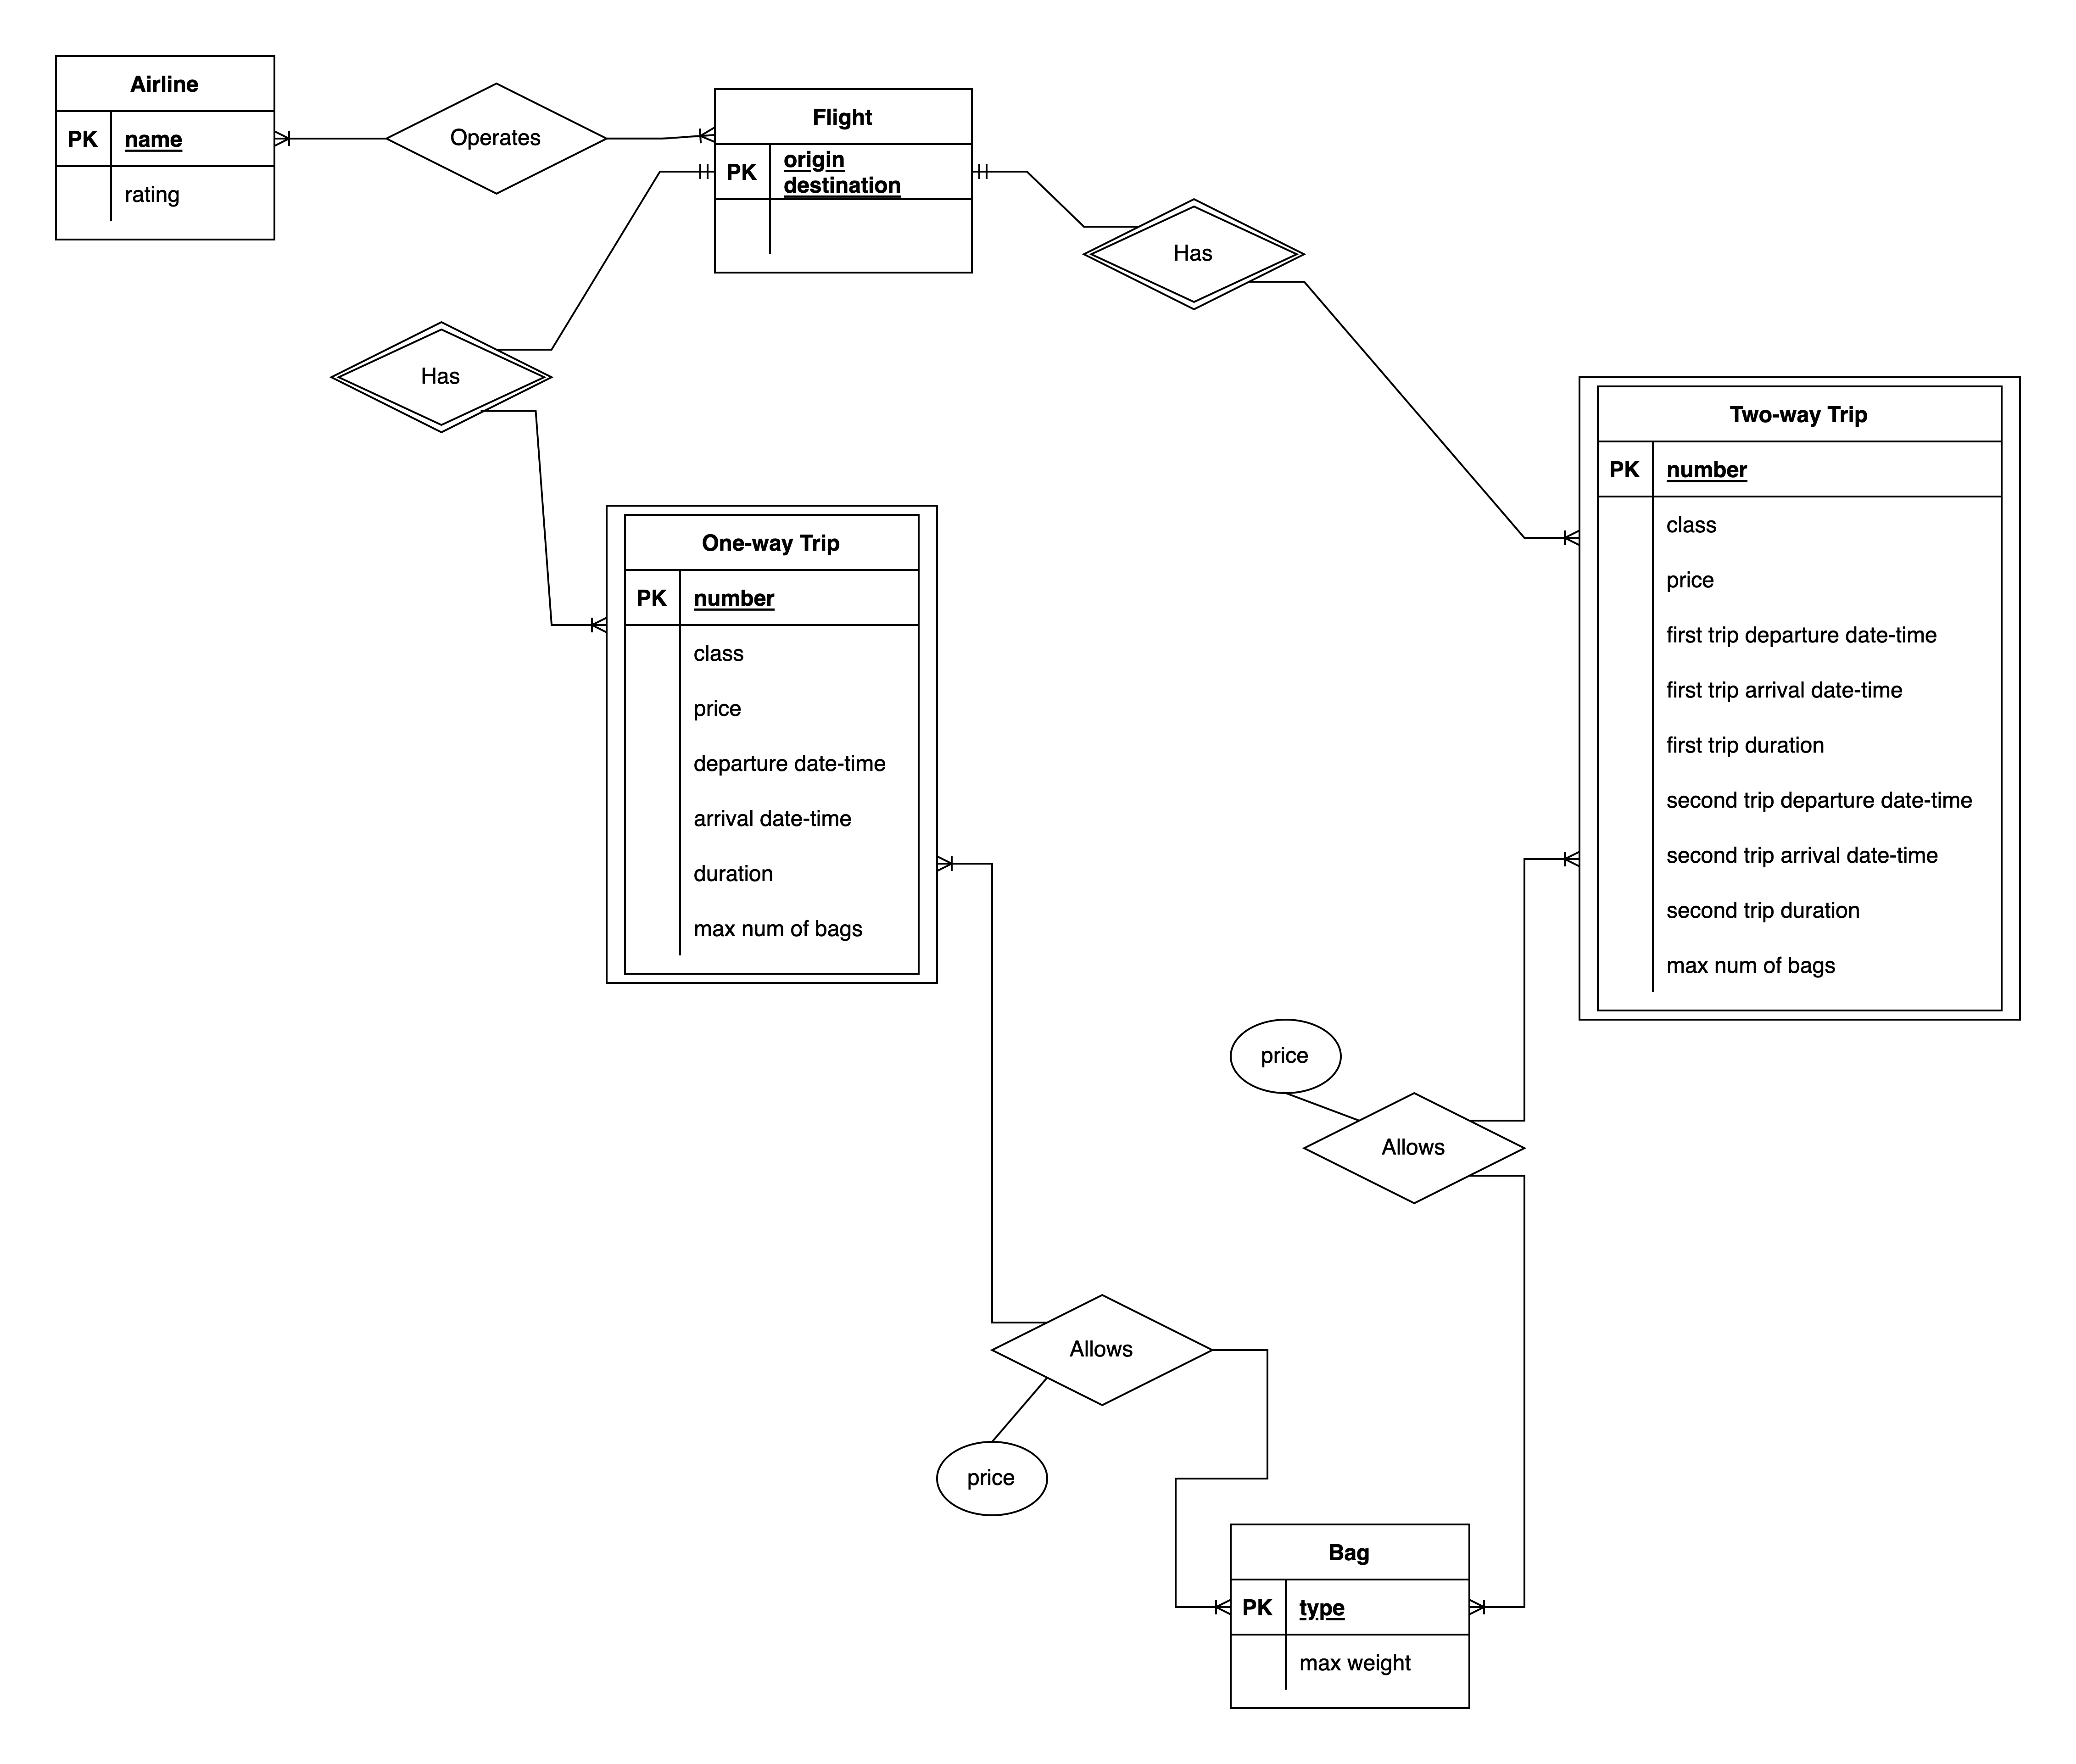entity: (714, 89, 975, 276), (1231, 1519, 1469, 1706), (54, 52, 273, 238)
ident_rel: (329, 318, 555, 439), (1084, 199, 1304, 310)
many: (1523, 511, 1575, 563), (933, 838, 985, 891), (1521, 836, 1577, 878), (546, 604, 604, 644), (1469, 1584, 1519, 1629), (1178, 1587, 1232, 1629), (275, 114, 320, 152), (683, 117, 721, 150)
one: (676, 156, 719, 198), (971, 152, 1017, 191)
rel: (383, 77, 607, 196), (1302, 1094, 1525, 1204), (992, 1297, 1210, 1405)
rel_attr: (1227, 1013, 1346, 1099), (935, 1440, 1049, 1517)
weak_entity: (1579, 374, 2018, 1020), (602, 506, 935, 983)
